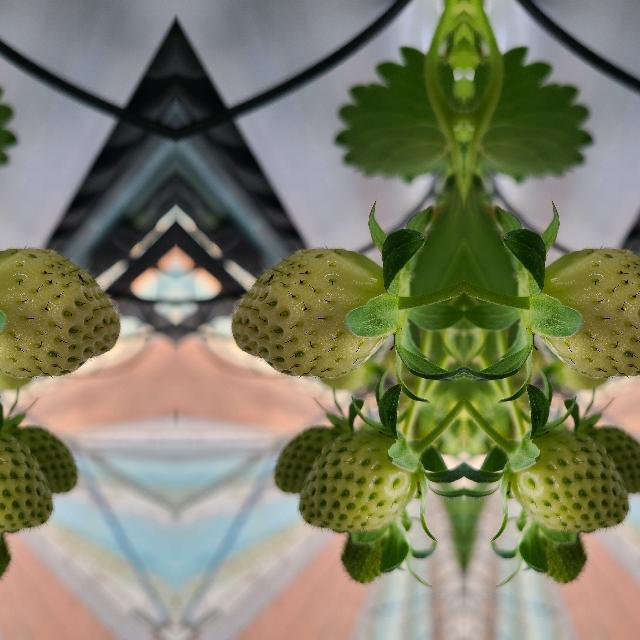Health_25: (231, 247, 381, 377), (0, 247, 119, 377), (295, 425, 417, 535), (509, 425, 631, 535), (545, 247, 640, 377), (0, 425, 55, 535)
